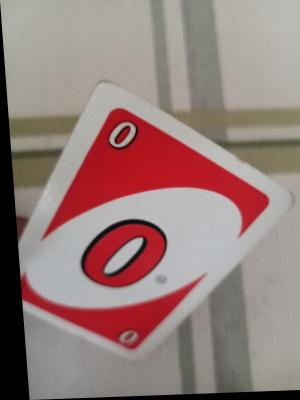num_0: (98, 116, 141, 157), (111, 324, 138, 351)
red: (0, 84, 292, 400)
